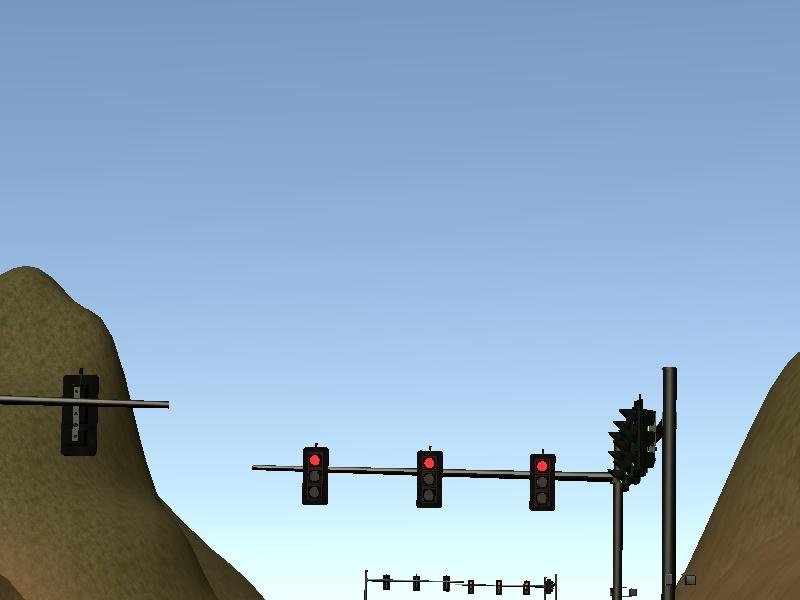red: (301, 444, 330, 507), (416, 449, 442, 510), (530, 452, 555, 510)
